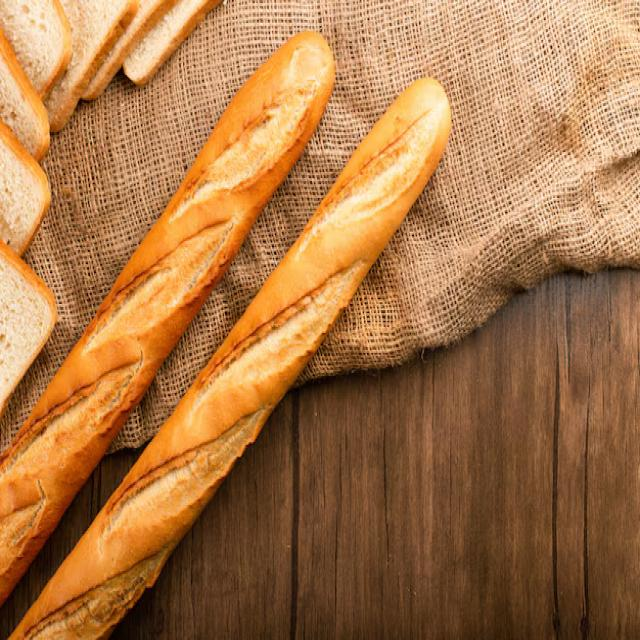Baguette: (0, 78, 452, 638), (0, 31, 335, 602)
